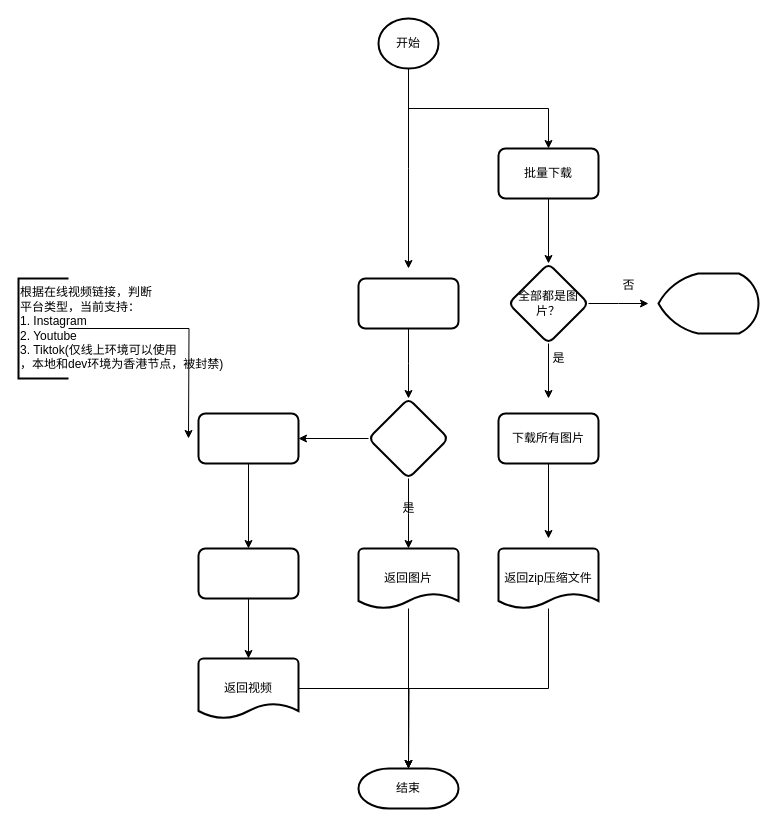
This 776x826 diagram has some shape labels left out. Here are the shapes that lost their labels. From the top down, the centre of each, then its label:
At (x=408, y=303): "下载".
At (x=708, y=303): "提示“视频不允许下载”".
At (x=248, y=438): "获取在线视频类型".
At (x=408, y=438): "为图片，或者本地视频类型？".
At (x=248, y=573): "调用api，解析原链接".
